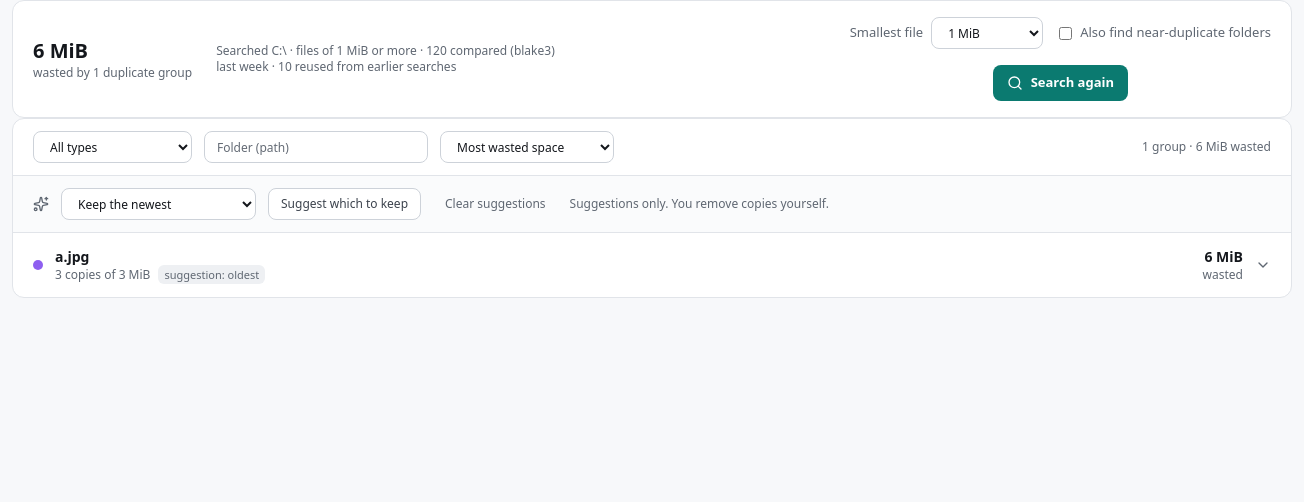
Test case: DuplicatesView › shows keep and remove badges with the manual steps
What coordinates should you click on to do the following:
click the button that starts with "a.jpg"
I would click on:
 (72, 256)
Its box is [13,233,1291,297].
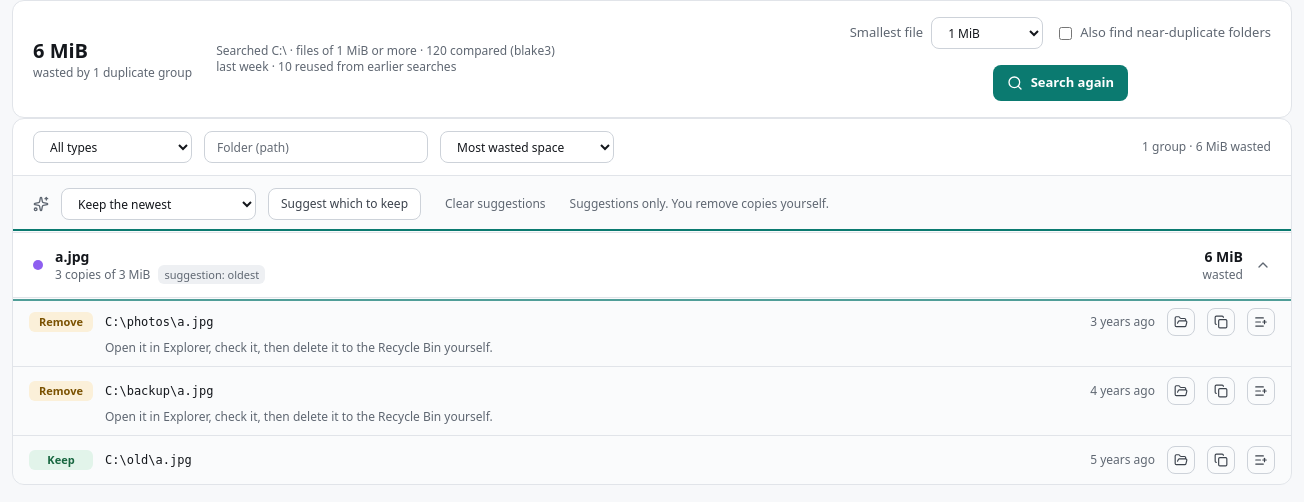
Expected: the text "Keep" is shown once, [29,450,93,470]
Expected: the text "Remove" is shown 2 times, [29,312,93,332]; [29,381,93,401]
Expected: the text "Open it in Explorer, check it, then delete it to the Recycle Bin yourself." is shown 2 times, [105,339,493,356]; [105,408,493,425]
